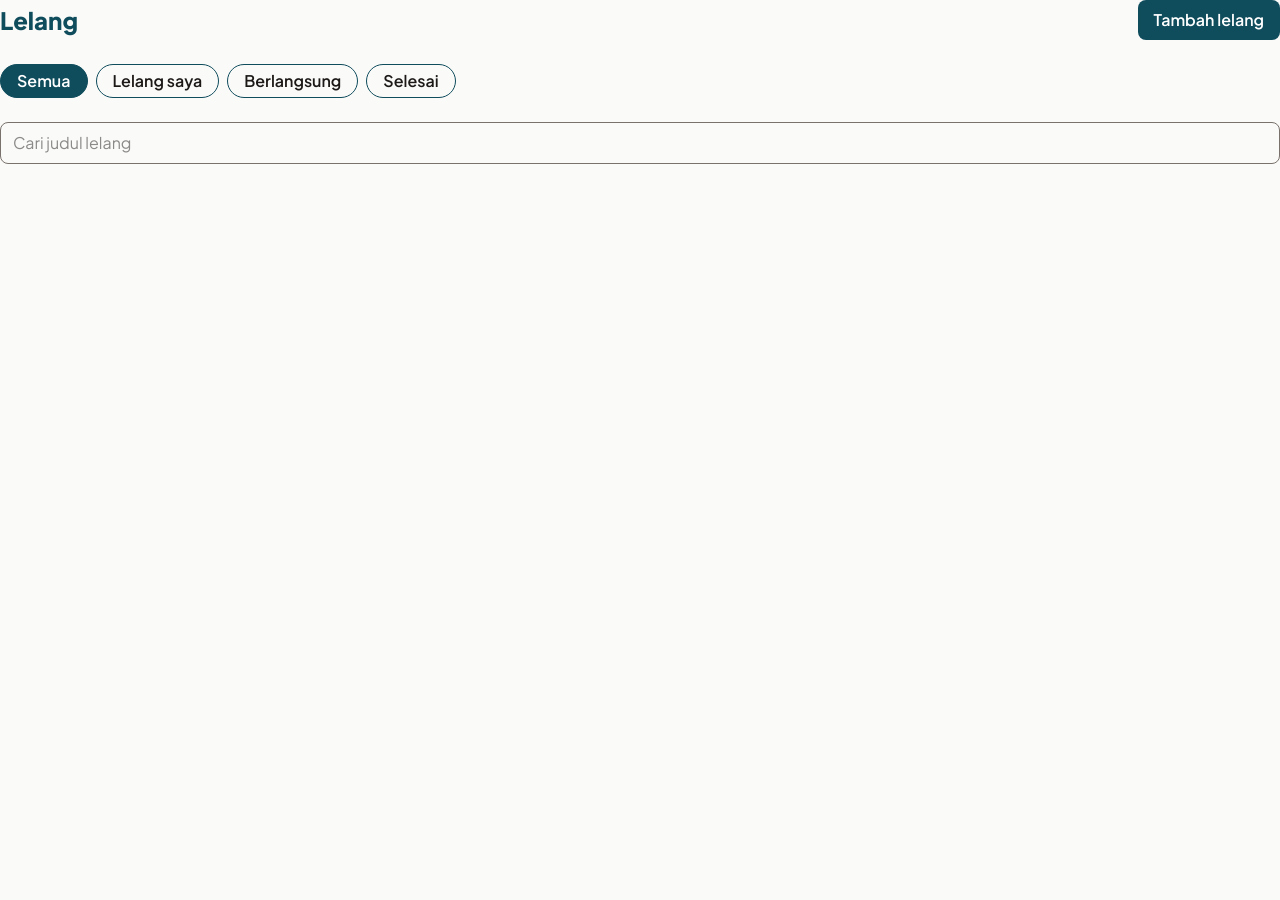
HomePage › creates an aucation, closes the modal and reloads
The width and height of the screenshot is (1280, 900).
Click the button "Tambah lelang".
click(1209, 20)  # box [1138, 0, 1279, 40]
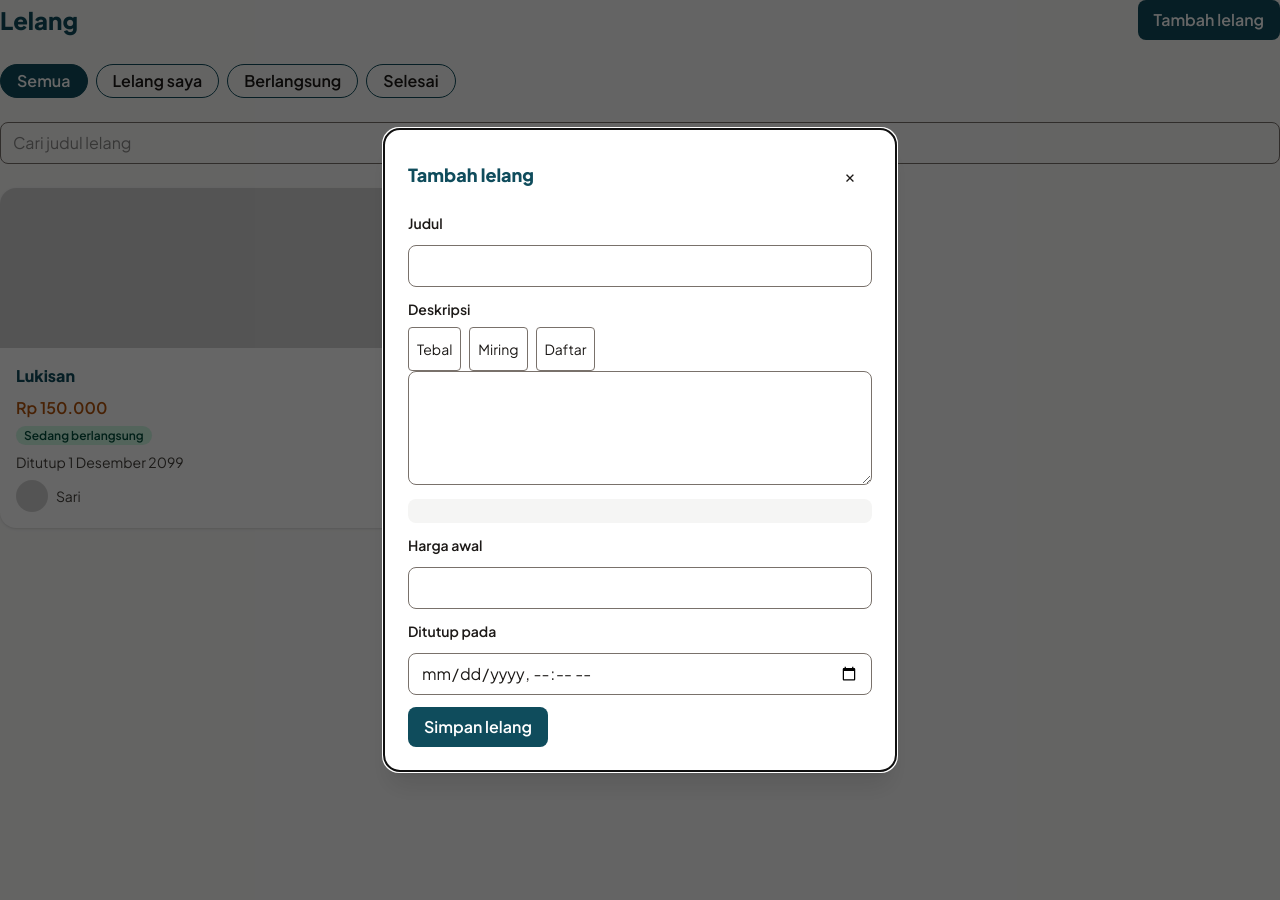
Type "Baru" into the field labelled "Judul".
click(640, 266); type("Baru")  # box [408, 245, 872, 287]
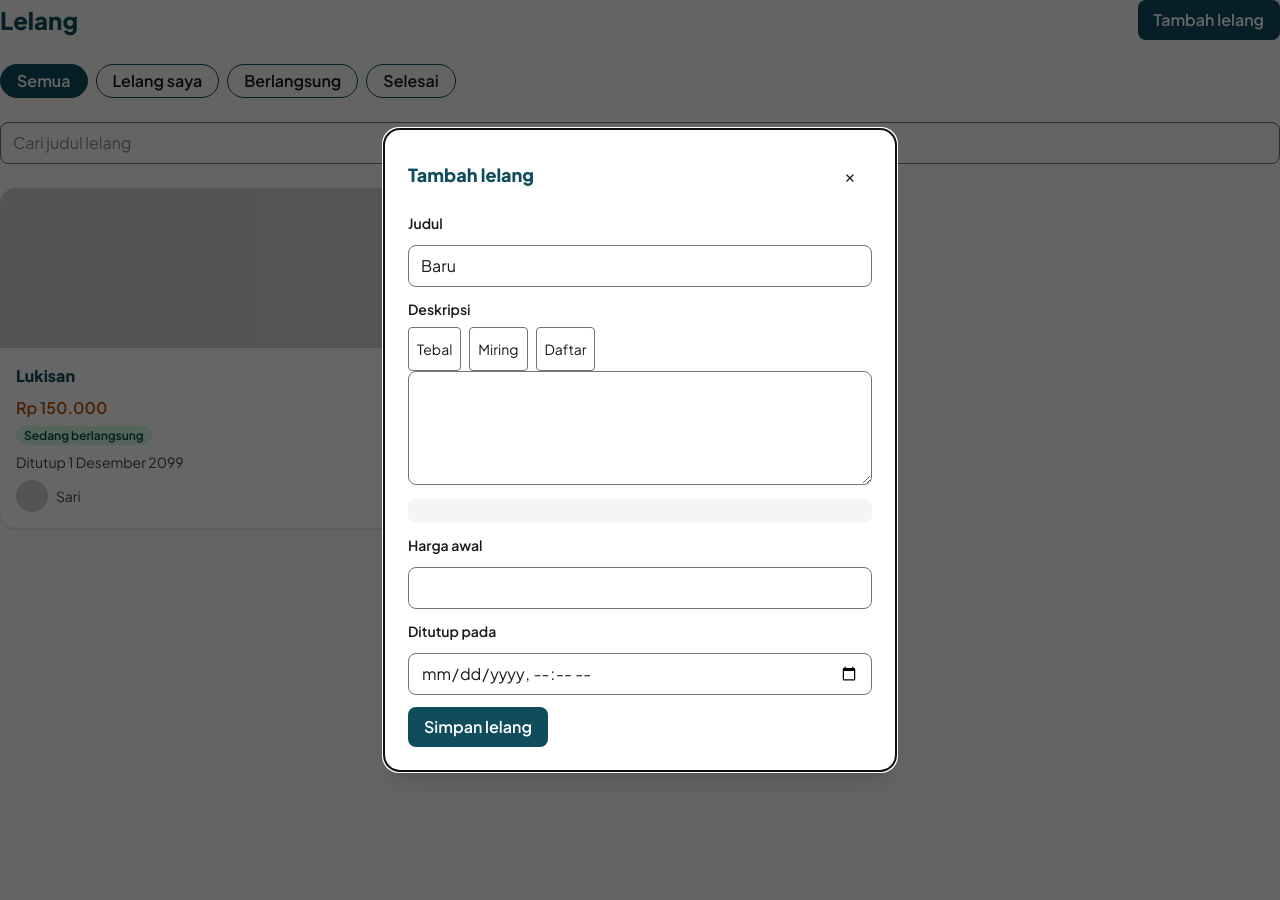
Type "Desc" into the text box labelled "Deskripsi".
click(640, 428); type("Desc")  # box [408, 371, 872, 485]
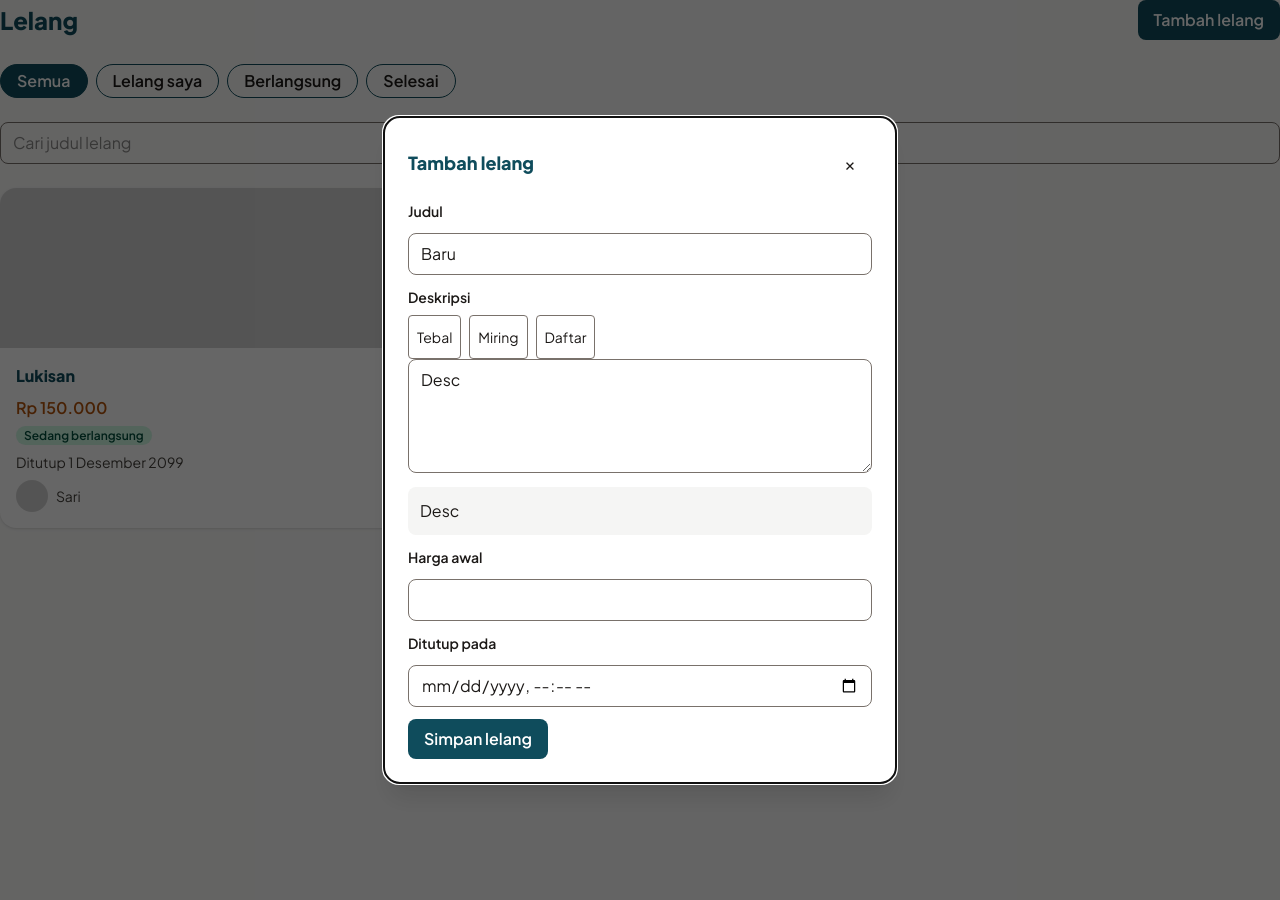
Type "1000" into the number field labelled "Harga awal".
click(640, 600); type("1000")  # box [408, 579, 872, 621]
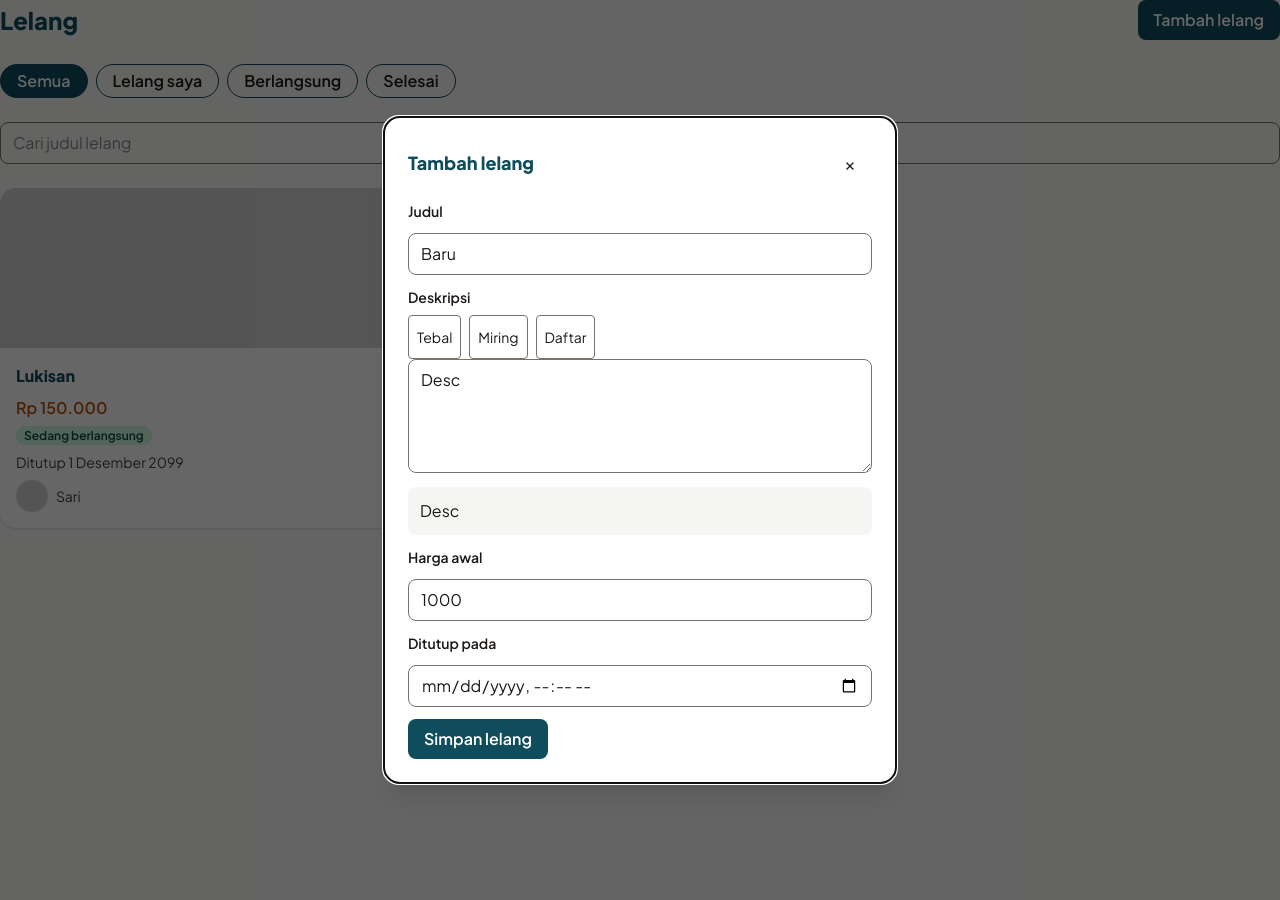
Type "2026-12-01T10:00" into the field labelled "Ditutup pada".
click(640, 686); type("2026-12-01T10:00")  # box [408, 665, 872, 707]
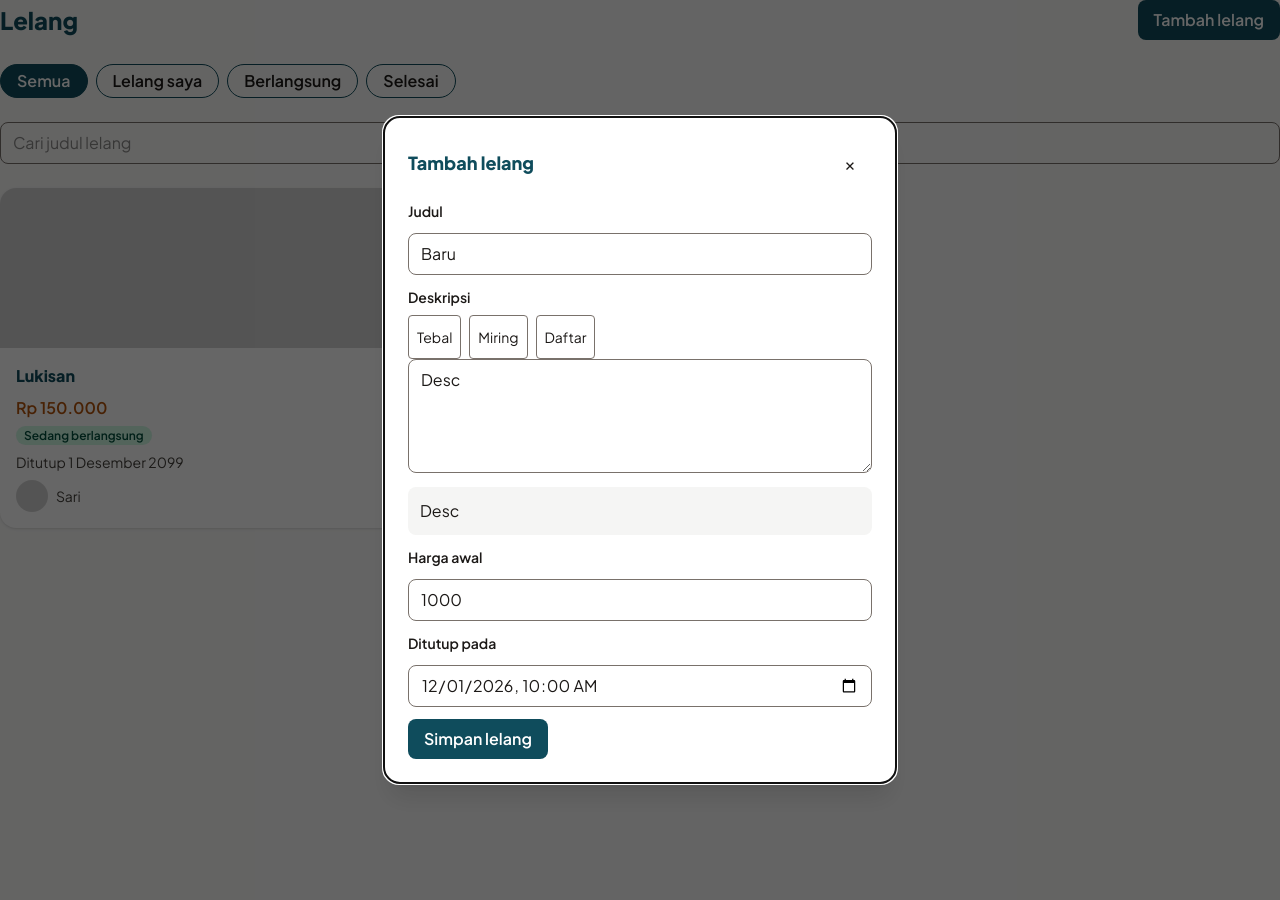
Click the button "Simpan lelang".
click(478, 739)  # box [408, 719, 548, 759]
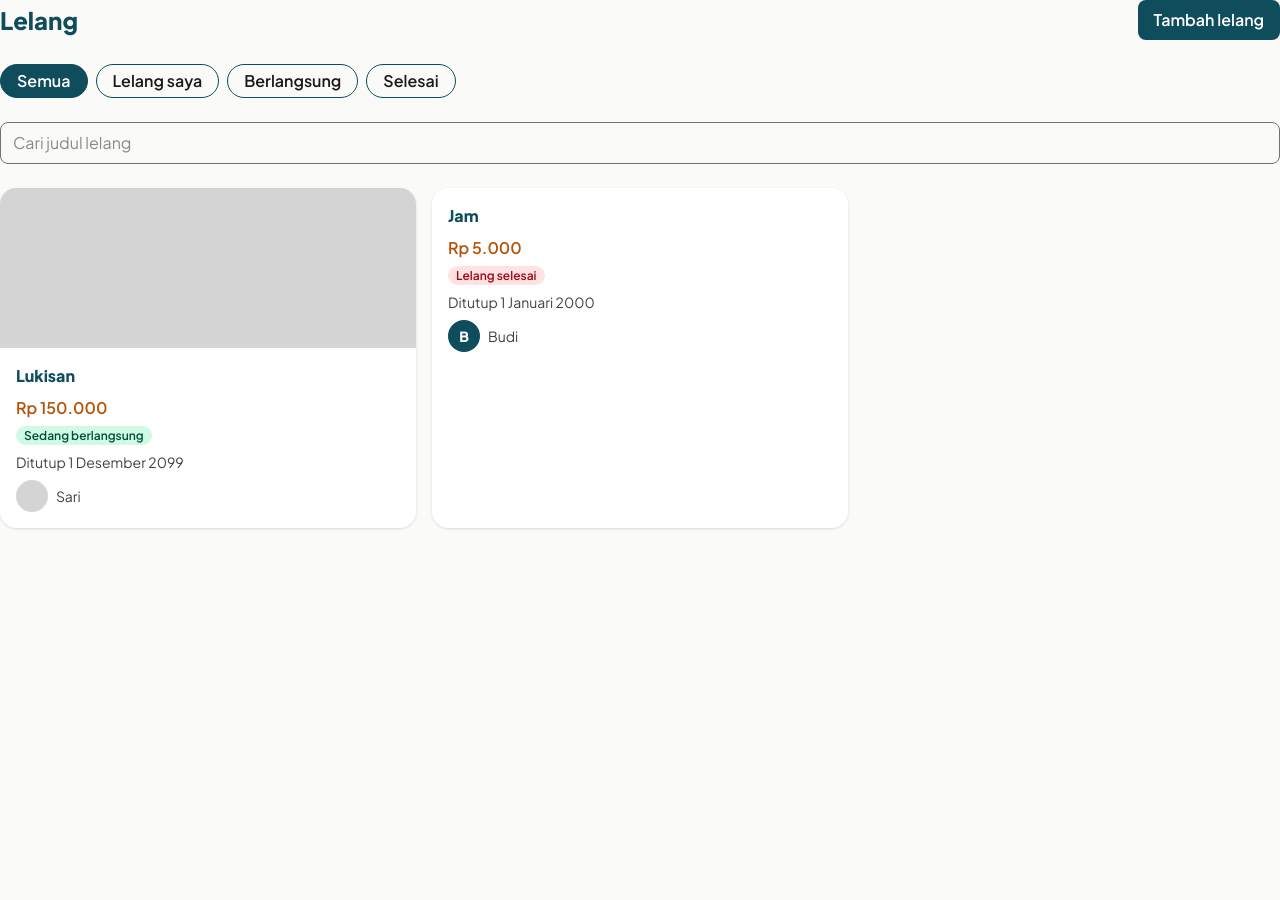
Now the dialog is gone
